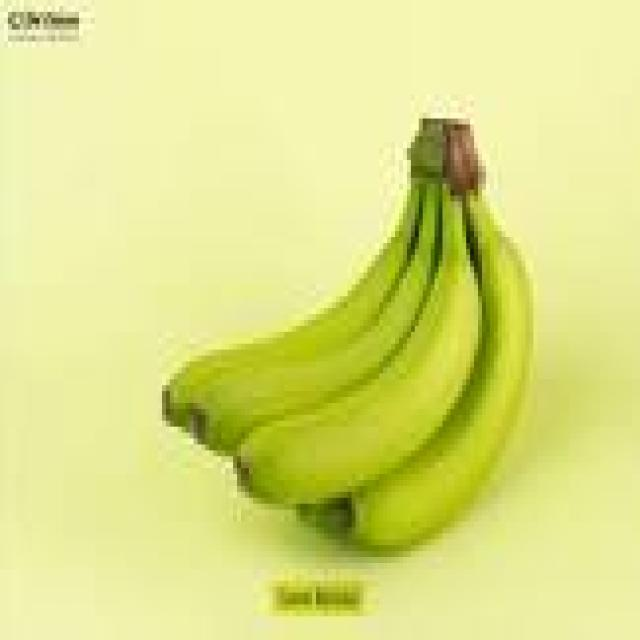banana: (305, 196, 533, 551), (238, 184, 481, 503), (194, 178, 438, 450), (162, 178, 422, 426)
